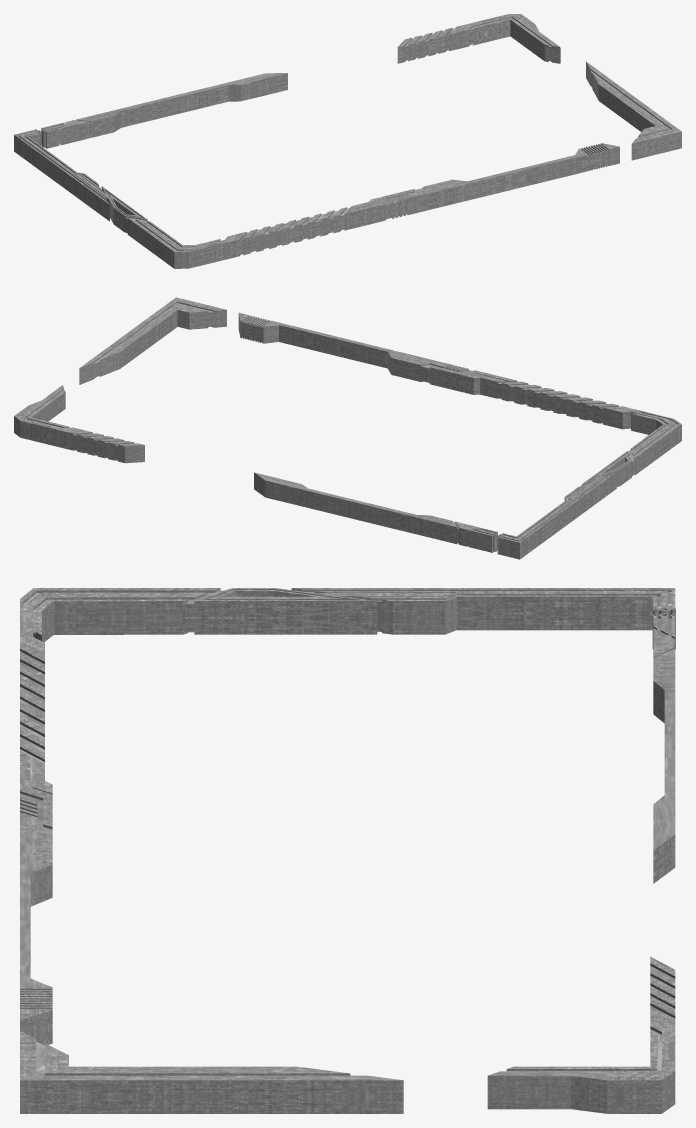
File: WallInfoPanel.fbx
3 renders of one model, top to bottom at view 1: azimuth 30°, elevation 25°; view 2: azimuth 150°, elevation 25°; view 3: azimuth 270°, elevation 25°, orthographic. The views are drawn at different scales.
Parts seen in each view (by area): view 1: WallFrame; view 2: WallFrame; view 3: WallFrame.
Boxes of the visible parts, x1=… form: WallFrame: x1=14, y1=14, x2=681, y2=268; WallFrame: x1=14, y1=297, x2=681, y2=559; WallFrame: x1=20, y1=588, x2=675, y2=1113.
Bounding box in the file's own units: 1.87 × 0.0594 × 1.05.
